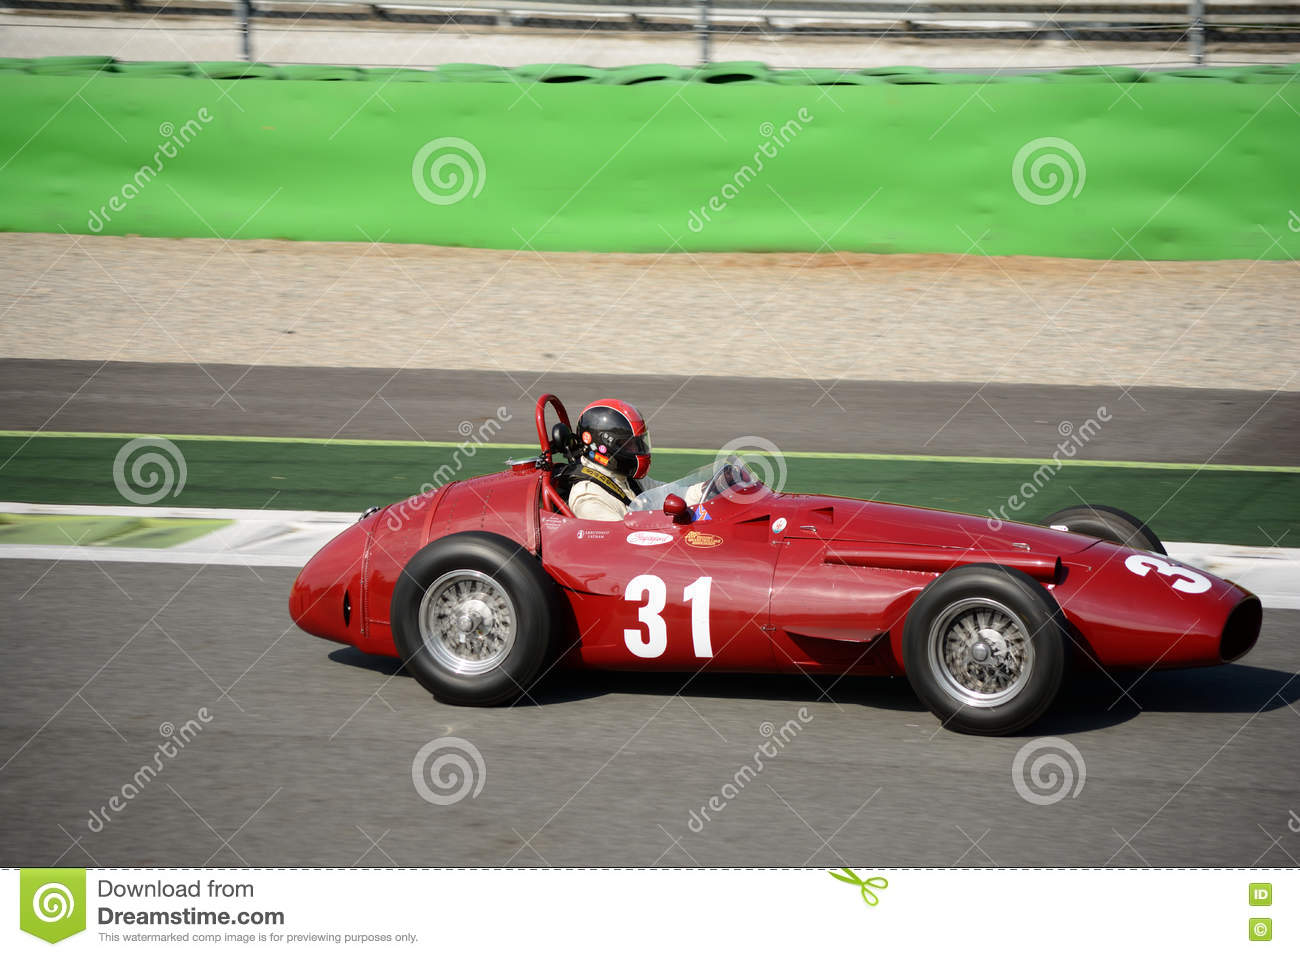f1_car: (278, 361, 1289, 744)
helmet: (566, 386, 665, 485)
